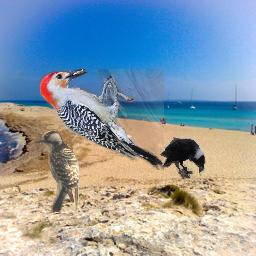Crow: (160, 137, 206, 179)
Woodpecker: (40, 69, 164, 170), (34, 130, 79, 214)
